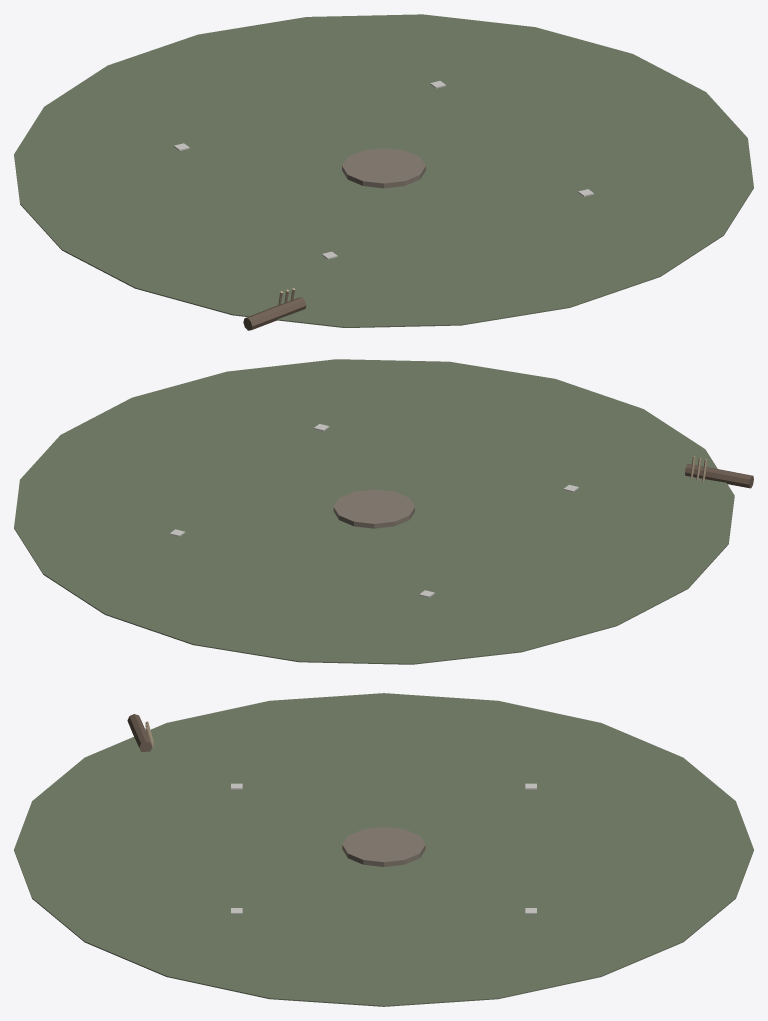
Rendered from Mist_Baseball.fbx.
3 views of the same model, one above another, from view 1: azimuth 30°, elevation 25°; view 2: azimuth 150°, elevation 25°; view 3: azimuth 270°, elevation 25° (orthographic). The views are drawn at different scales.
Visible parts, largest first — view 1: Mist_Baseball; view 2: Mist_Baseball; view 3: Mist_Baseball.
Boxes of the visible parts, left/top/right/bottom form: Mist_Baseball: left=14, top=14, right=753, bottom=330; Mist_Baseball: left=14, top=359, right=753, bottom=664; Mist_Baseball: left=14, top=693, right=753, bottom=1006.
Bounding box in the file's own units: 32 × 1.16 × 32.
